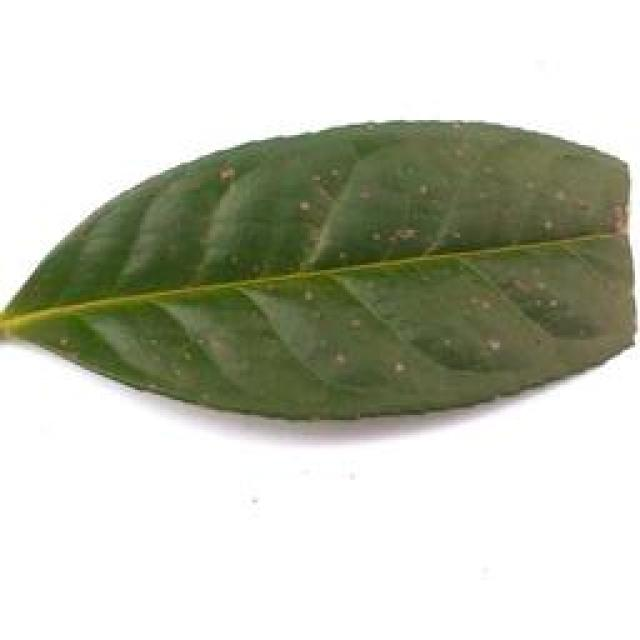Algal Leaf Spot: (2, 120, 640, 428)
